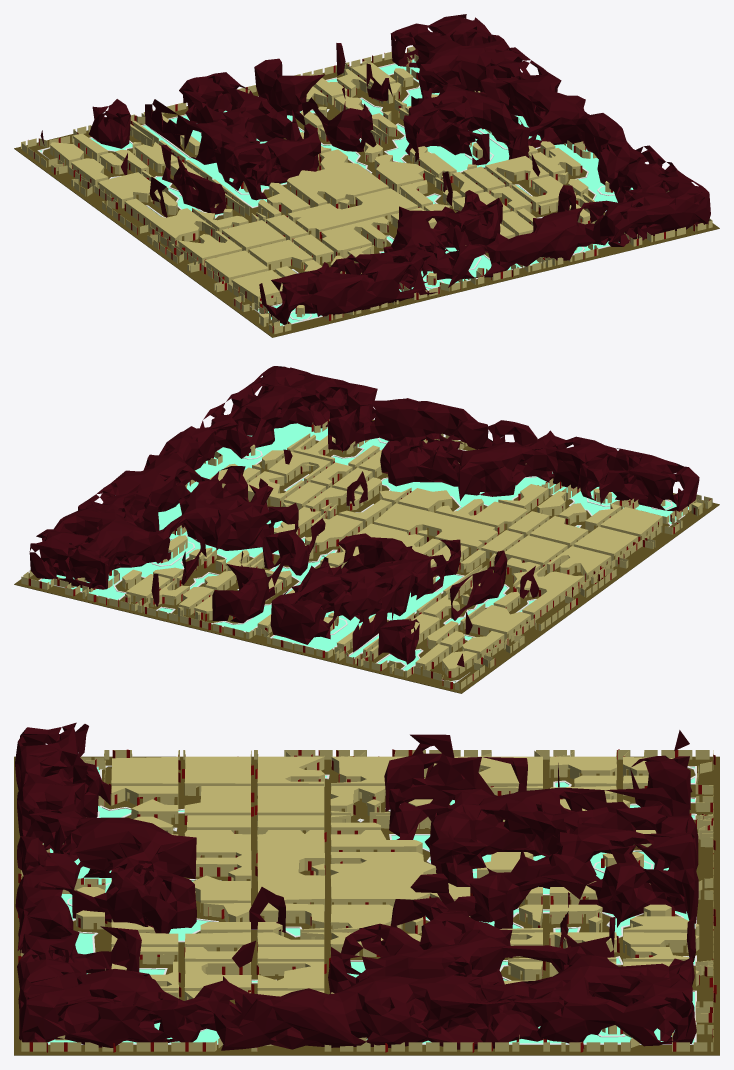
3 views of the same model, one above another, from view 1: azimuth 30°, elevation 25°; view 2: azimuth 150°, elevation 25°; view 3: azimuth 270°, elevation 25° (orthographic). The views are drawn at different scales.
Parts seen in each view (by area): view 1: Voxels, Above, Walls, Floor, Water, Doors, Pools; view 2: Voxels, Above, Walls, Floor, Water, Doors, Pools; view 3: Voxels, Above, Floor, Walls, Water, Doors, Pools.
Part boxes in pixels (bbox=[...]): Voxels: bbox=[40, 14, 710, 324]; Above: bbox=[50, 61, 609, 319]; Walls: bbox=[21, 46, 712, 334]; Floor: bbox=[14, 52, 719, 337]; Water: bbox=[40, 60, 633, 325]; Doors: bbox=[33, 48, 708, 333]; Pools: bbox=[37, 58, 614, 326]; Voxels: bbox=[29, 366, 699, 666]; Above: bbox=[122, 433, 702, 670]; Walls: bbox=[21, 419, 712, 690]; Floor: bbox=[14, 419, 719, 693]; Water: bbox=[40, 423, 688, 682]; Doors: bbox=[28, 419, 710, 689]; Pools: bbox=[38, 438, 688, 683]; Voxels: bbox=[15, 722, 698, 1050]; Above: bbox=[76, 756, 699, 998]; Floor: bbox=[14, 756, 719, 1055]; Walls: bbox=[21, 750, 713, 1051]; Water: bbox=[43, 767, 694, 1043]; Doors: bbox=[18, 749, 716, 1052]; Pools: bbox=[48, 765, 696, 1044].
Size of the model in its own units: 255 by 25.62 by 255.
